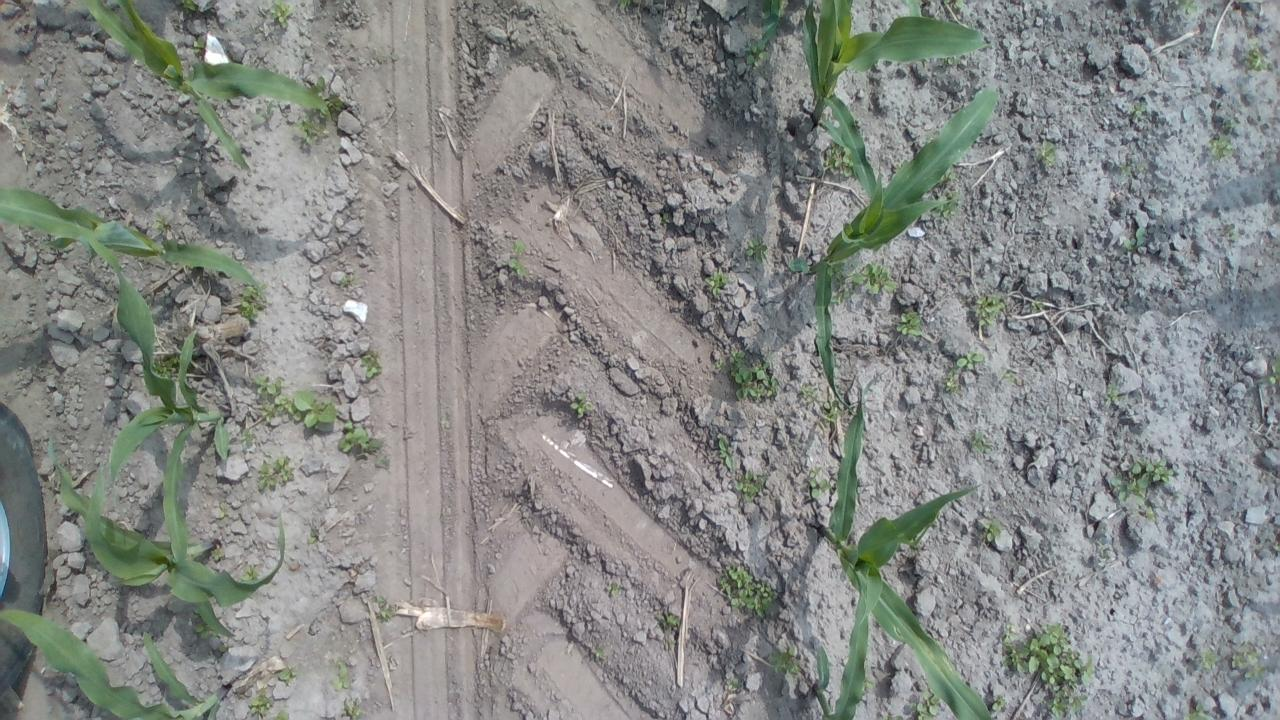Maize: (817, 371, 996, 720), (811, 88, 1000, 412), (73, 219, 235, 564), (46, 432, 288, 638), (83, 0, 332, 174), (801, 0, 988, 198), (0, 186, 268, 302), (0, 608, 232, 720), (806, 558, 870, 720), (760, 0, 782, 41), (908, 0, 923, 19)
Weeds: (1002, 620, 1096, 718), (716, 561, 776, 619), (1106, 454, 1174, 504), (713, 350, 780, 400), (338, 420, 383, 460), (292, 388, 336, 426), (852, 260, 898, 296), (974, 291, 1010, 329), (1231, 640, 1266, 679), (255, 455, 294, 490), (294, 114, 330, 148), (766, 644, 802, 676), (240, 284, 270, 320), (822, 142, 852, 177), (735, 468, 767, 500), (806, 461, 832, 498), (329, 657, 354, 695), (910, 690, 940, 720), (1206, 134, 1239, 160), (1242, 41, 1268, 73), (260, 394, 290, 421), (704, 268, 730, 298), (742, 38, 769, 66), (268, 0, 294, 29), (894, 312, 922, 338), (745, 234, 769, 264), (982, 516, 1006, 545), (362, 349, 384, 380), (933, 194, 960, 219), (250, 100, 276, 124), (248, 688, 270, 716), (254, 374, 282, 396), (716, 436, 734, 470), (1118, 156, 1148, 176), (341, 695, 364, 720), (967, 431, 990, 456), (956, 350, 986, 369), (818, 401, 842, 424), (1036, 138, 1056, 164), (1124, 226, 1146, 249), (570, 393, 593, 415), (508, 256, 530, 278), (1198, 648, 1221, 669), (376, 595, 394, 621), (1183, 703, 1210, 720), (1266, 352, 1280, 384), (278, 664, 298, 686), (801, 381, 820, 404), (1172, 0, 1198, 16), (789, 254, 809, 274), (151, 213, 170, 233), (240, 428, 258, 449), (1001, 620, 1018, 642), (656, 612, 680, 627), (1104, 383, 1120, 405), (942, 370, 958, 391), (328, 95, 346, 113), (154, 359, 174, 375), (310, 76, 326, 96), (832, 288, 849, 306), (826, 263, 846, 278), (1222, 116, 1240, 132), (1030, 297, 1046, 314), (239, 565, 256, 581), (376, 452, 392, 469), (992, 694, 1007, 712), (440, 409, 452, 430), (999, 366, 1014, 382), (1132, 101, 1148, 116), (1227, 222, 1238, 243), (590, 644, 606, 658), (1144, 506, 1158, 522), (338, 273, 355, 286), (216, 502, 228, 520), (862, 678, 878, 691), (942, 0, 964, 9), (193, 38, 204, 56), (194, 624, 208, 638), (512, 241, 526, 255), (726, 678, 741, 691), (606, 582, 618, 598), (923, 130, 936, 144), (211, 547, 224, 561), (306, 529, 318, 544), (182, 1, 196, 12), (658, 213, 671, 224), (276, 710, 290, 720), (879, 715, 905, 720), (618, 0, 630, 9), (218, 645, 228, 655), (944, 170, 956, 178), (948, 55, 956, 64), (921, 58, 928, 68), (171, 357, 179, 365)
